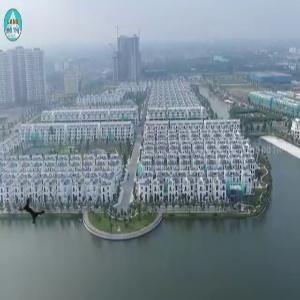drone: (2, 181, 62, 241)
